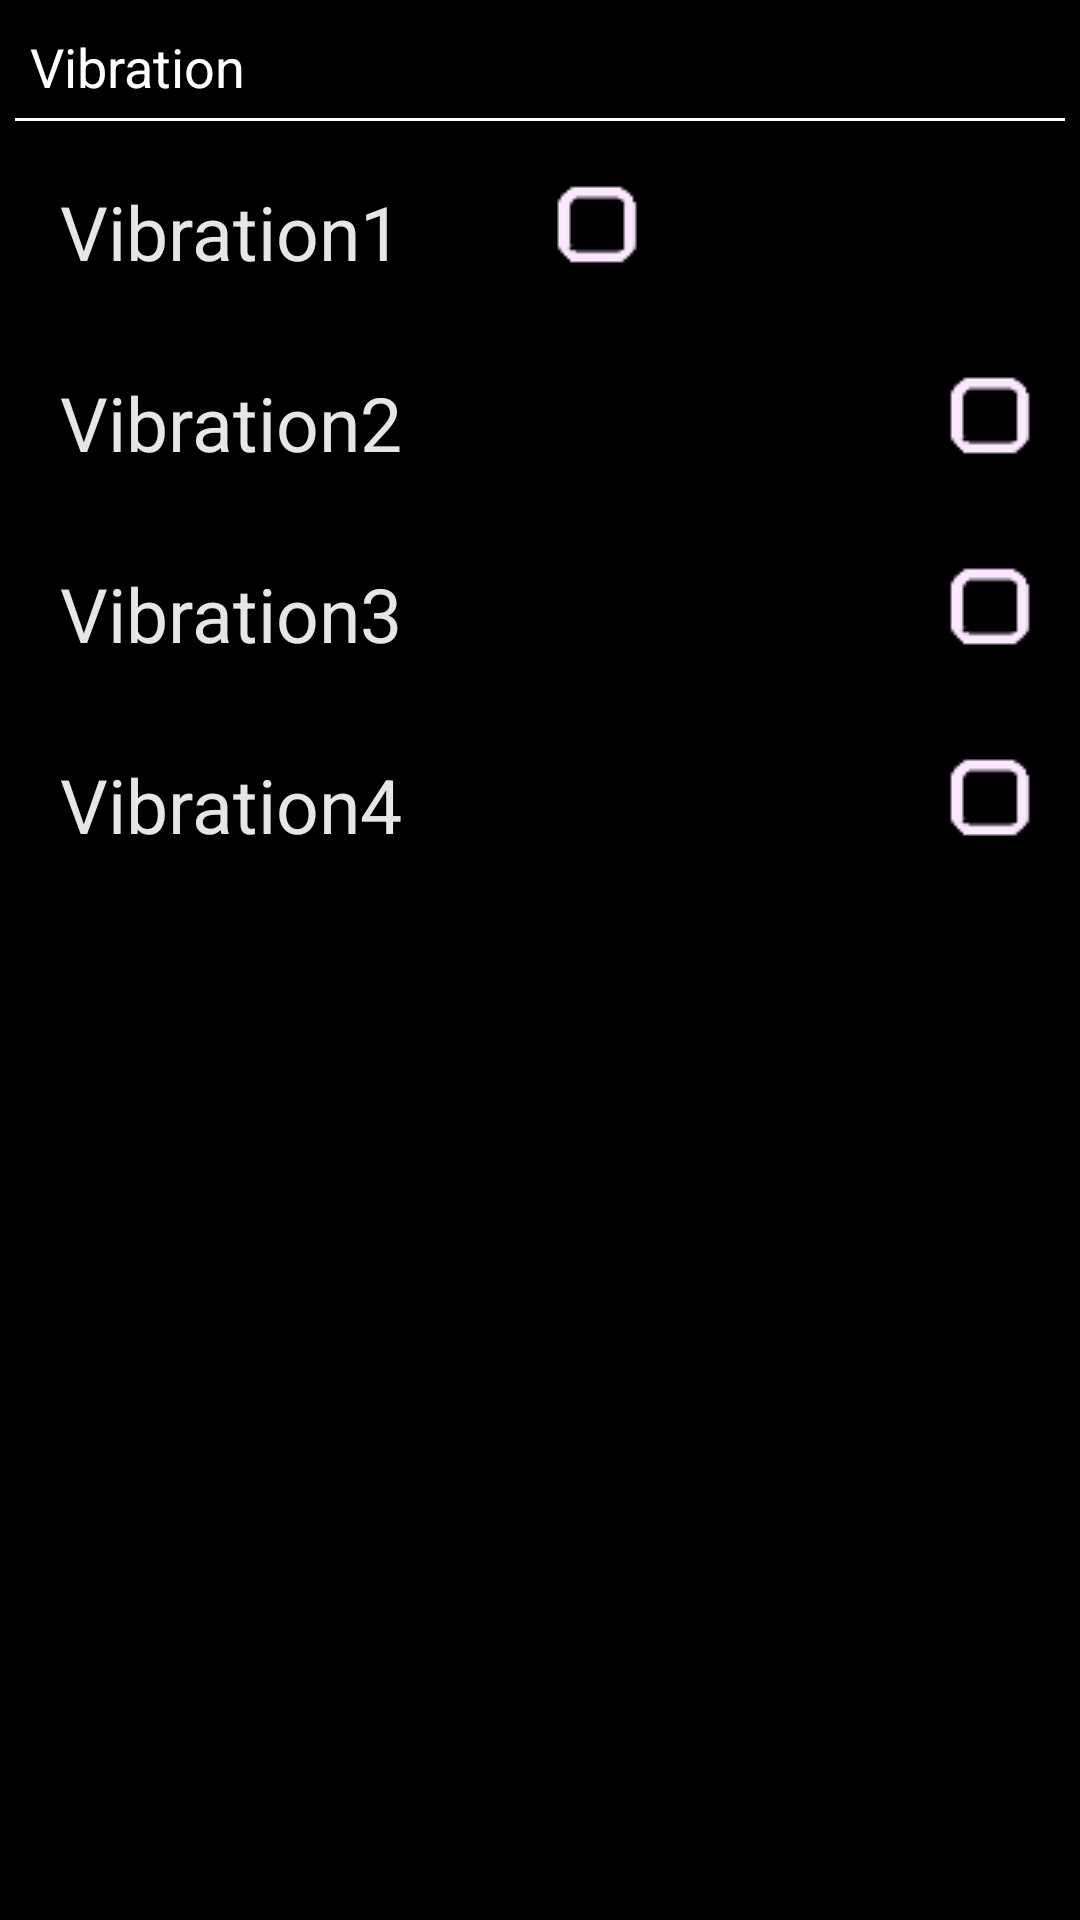

Screen size 1080×1920. Icon name, then its center in pixels as [x,y]:
checkbox: [597,224], [990,415], [990,606], [990,797]
